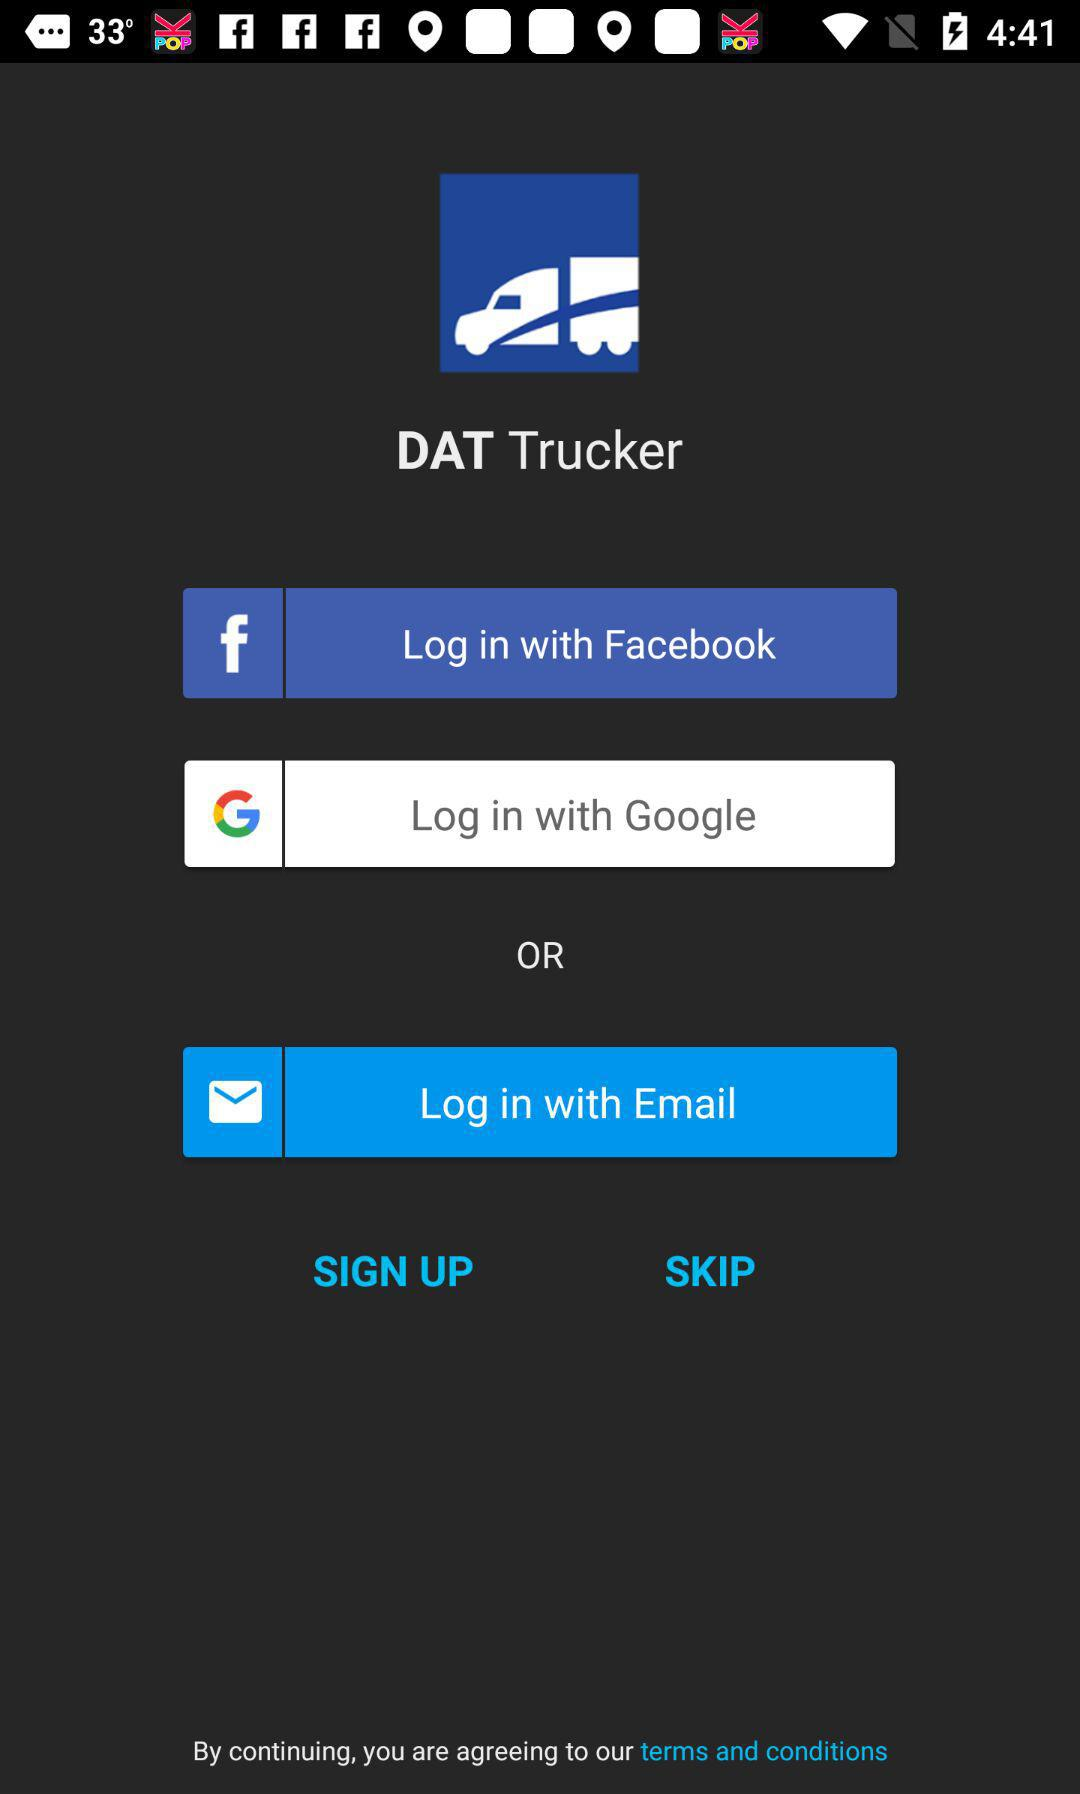Image: (437, 172, 642, 377)
Text: (193, 1738, 888, 1768), (398, 428, 684, 472), (313, 1255, 475, 1290), (665, 1255, 757, 1289), (518, 941, 565, 971)
TextButton: (183, 1046, 898, 1158), (183, 588, 898, 700), (184, 760, 896, 868)
UpperTaskBar: (1, 1, 1080, 64)
